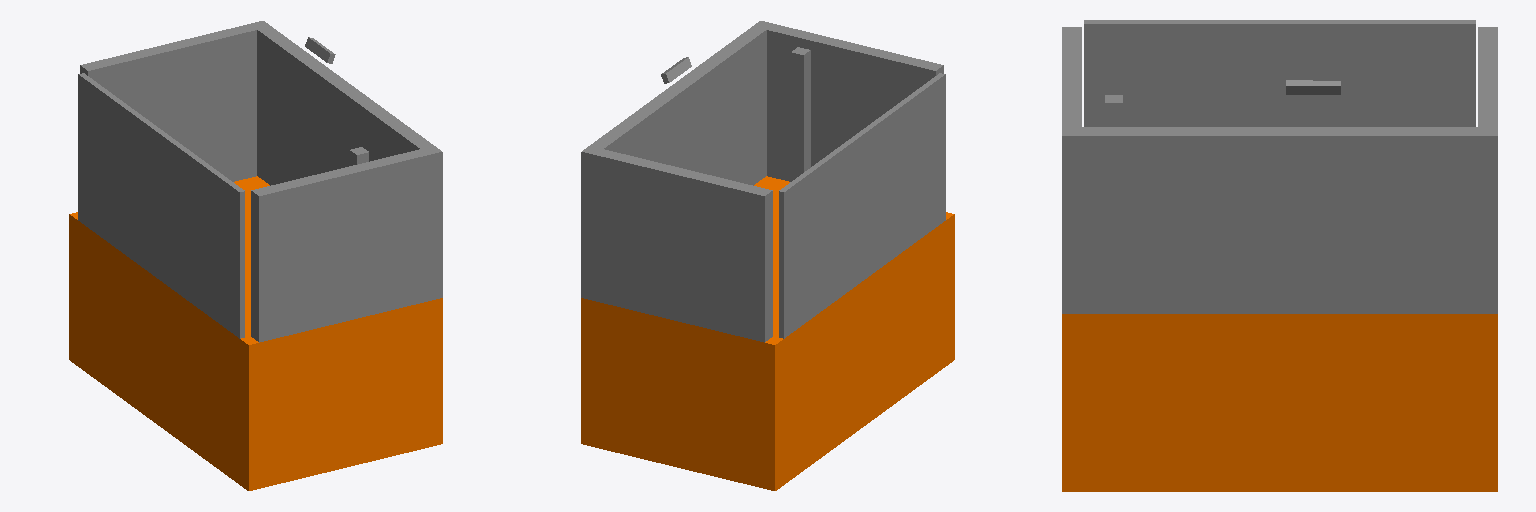
robot.urdf — sia20d_workspace:
<?xml version="1.0" ?>
<!-- =================================================================================== -->
<!-- |    This document was autogenerated by xacro from sia20d_workspace.xacro         | -->
<!-- |    EDITING THIS FILE BY HAND IS NOT RECOMMENDED                                 | -->
<!-- =================================================================================== -->
<robot name="sia20d_workspace" xmlns:xacro="http://ros.org/wiki/xacro">
  <material name="yellow_transparent">
    <color rgba="0 1 1 0.4"/>
  </material>
  <material name="orange_transparent">
    <color rgba="1 0.5 0 0.4"/>
  </material>
  <material name="gray_transparent">
    <color rgba="0.6 0.6 0.6 0.4"/>
  </material>
  <material name="blue_transparent">
    <color rgba="0 0.8 1 0.4"/>
  </material>
  <link name="world_frame"/>
  <!-- property list -->
  <!-- instantiating workcell definitions -->
  <link name="table_base1">
    <visual>
      <origin rpy="0 0 0" xyz="0 0 -0.5"/>
      <geometry>
        <box size="1.3875 2.22 1"/>
      </geometry>
      <material name="orange_transparent"/>
    </visual>
    <collision>
      <origin rpy="0 0 0" xyz="0 0 -0.5"/>
      <geometry>
        <box size="1.3875 2.22 1"/>
      </geometry>
      <material name="blue_transparent"/>
    </collision>
  </link>
  <joint name="workcell_to_table_base1" type="fixed">
    <parent link="world_frame"/>
    <child link="table_base1"/>
    <origin rpy="0 0 0" xyz="0.69375 0 0"/>
  </joint>
  <link name="front_wall1">
    <visual>
      <geometry>
        <box size="0.1 2.22 1"/>
      </geometry>
      <material name="gray_transparent"/>
    </visual>
    <collision>
      <geometry>
        <box size="0.1 2.22 1"/>
      </geometry>
      <material name="blue_transparent"/>
    </collision>
  </link>
  <joint name="world_frame_to_front_wall1" type="fixed">
    <parent link="world_frame"/>
    <child link="front_wall1"/>
    <origin rpy="0 0 0" xyz="1.3375 0 0.5"/>
  </joint>
  <link name="back_wall1">
    <visual>
      <geometry>
        <box size="0.04 2.0 1"/>
      </geometry>
      <material name="gray_transparent"/>
    </visual>
    <collision>
      <geometry>
        <box size="0.04 2.0 1"/>
      </geometry>
      <material name="blue_transparent"/>
    </collision>
  </link>
  <joint name="world_frame_to_back_wall1" type="fixed">
    <parent link="world_frame"/>
    <child link="back_wall1"/>
    <origin rpy="0 0 0" xyz="0.02 0 0.5"/>
  </joint>
  <link name="left_wall1">
    <visual>
      <geometry>
        <box size="1.221 0.1 1"/>
      </geometry>
      <material name="gray_transparent"/>
    </visual>
    <collision>
      <geometry>
        <box size="1.221 0.1 1"/>
      </geometry>
      <material name="blue_transparent"/>
    </collision>
  </link>
  <joint name="world_frame_to_left_wall1" type="fixed">
    <parent link="world_frame"/>
    <child link="left_wall1"/>
    <origin rpy="0 0 0" xyz="0.687 1.06 0.5"/>
  </joint>
  <link name="right_wall1">
    <visual>
      <geometry>
        <box size="1.221 0.1 1"/>
      </geometry>
      <material name="gray_transparent"/>
    </visual>
    <collision>
      <geometry>
        <box size="1.221 0.1 1"/>
      </geometry>
      <material name="blue_transparent"/>
    </collision>
  </link>
  <joint name="world_frame_to_right_wall1" type="fixed">
    <parent link="world_frame"/>
    <child link="right_wall1"/>
    <origin rpy="0 0 0" xyz="0.687 -1.06 0.5"/>
  </joint>
  <link name="pole1">
    <visual>
      <geometry>
        <box size="0.09 0.09 1"/>
      </geometry>
      <material name="gray_transparent"/>
    </visual>
    <collision>
      <geometry>
        <box size="0.09 0.09 1"/>
      </geometry>
      <material name="blue_transparent"/>
    </collision>
  </link>
  <joint name="world_frame_to_pole1" type="fixed">
    <parent link="world_frame"/>
    <child link="pole1"/>
    <origin rpy="0 0 0" xyz="0.9465 -0.845 0.5"/>
  </joint>
  <!-- end of workcell definitions -->
  <link name="roof1">
    <collision>
      <geometry>
        <box size="1.010 2.220 0.04"/>
      </geometry>
    </collision>
  </link>
  <!-- instantiating sensor definitions -->
  <material name="color_b">
    <color rgba="0 0.8 1 0.4"/>
  </material>
  <material name="color_a">
    <color rgba="0.8 0.2 1 0.2"/>
  </material>
  <material name="silver">
    <color rgba="0.6 0.6 0.6 1"/>
  </material>
  <link name="kinect_link">
    <collision>
      <material name="color_a"/>
      <geometry>
        <box size="0.36 0.28 0.22"/>
      </geometry>
    </collision>
  </link>
  <link name="kinect_keepout">
    <!--collision>
<material name="${prefix}color_b"/>
<geometry>
<box size="0.2 0.32 ${z_val + 0.08}"/>
</geometry>
</collision-->
  </link>
  <link name="kinect_frame">
    <visual>
      <origin rpy="0 0 0" xyz="0 0 0"/>
      <geometry>
        <box size="0.064 0.28 0.04"/>
      </geometry>
      <material name="silver"/>
    </visual>
    <collision>
      <origin rpy="0 0 0" xyz="0 0 0"/>
      <geometry>
        <box size="0.064 0.28 0.04"/>
      </geometry>
    </collision>
  </link>
  <link name="kinect_ir_link">
    <visual>
      <origin rpy="0 0 0" xyz="0 0 0"/>
      <geometry>
        <sphere radius="0.0005"/>
      </geometry>
    </visual>
  </link>
  <link name="kinect_rgb_link">
    <visual>
      <origin rpy="0 0 0" xyz="0 0 0"/>
      <geometry>
        <sphere radius="0.0005"/>
      </geometry>
    </visual>
  </link>
  <link name="kinect_ir_optical_frame"/>
  <link name="kinect_rgb_optical_frame"/>
  <joint name="kinect_frame_joint" type="fixed">
    <parent link="kinect_link"/>
    <child link="kinect_frame"/>
    <origin rpy="0 0 0" xyz="0 0 0"/>
  </joint>
  <joint name="kinect_ir_joint" type="fixed">
    <parent link="kinect_frame"/>
    <child link="kinect_ir_link"/>
    <origin rpy="0 0 0" xyz="0 0 0"/>
  </joint>
  <joint name="kinect_ir_optical_frame_joint" type="fixed">
    <parent link="kinect_ir_link"/>
    <child link="kinect_ir_optical_frame"/>
    <origin rpy="-1.57 0 -1.57" xyz="0 0 0"/>
  </joint>
  <joint name="kinect_rgb_joint" type="fixed">
    <parent link="kinect_ir_link"/>
    <child link="kinect_rgb_link"/>
    <origin rpy="0 0 0" xyz="0 -0.03 0"/>
  </joint>
  <joint name="kinect_rgb_optical_frame_joint" type="fixed">
    <parent link="kinect_rgb_link"/>
    <child link="kinect_rgb_optical_frame"/>
    <origin rpy="-1.57 0 -1.57" xyz="0 0 0"/>
  </joint>
  <joint name="base_link_to_kinect_link" type="fixed">
    <parent link="base_link"/>
    <child link="kinect_link"/>
    <origin rpy="0.005 1.968 0.0" xyz="1.01 0.169 1.206"/>
  </joint>
  <joint name="base_link_to_kinect_keepout" type="fixed">
    <parent link="base_link"/>
    <child link="kinect_keepout"/>
    <origin rpy="0 0 0.0" xyz="1.01 0.169 0.643"/>
  </joint>
  <!-- end of sensor definitions -->
  <!-- instantiating arm  -->
  <link name="base_link">
    <visual>
      <geometry>
        <mesh filename="package://motoman_sia20d_support/meshes/sia20d/visual/MOTOMAN_BASE.stl"/>
      </geometry>
      <material name="blue">
        <color rgba="0 0 1 1"/>
      </material>
    </visual>
    <collision>
      <geometry>
        <mesh filename="package://motoman_sia20d_support/meshes/sia20d/collision/MOTOMAN_BASE.stl"/>
      </geometry>
      <material name="yellow">
        <color rgba="0 1 1 1"/>
      </material>
    </collision>
  </link>
  <link name="link_s">
    <visual>
      <origin rpy="0 0 3.1416" xyz="0 0 0"/>
      <geometry>
        <mesh filename="package://motoman_sia20d_support/meshes/sia20d/visual/MOTOMAN_AXIS_S.stl"/>
      </geometry>
      <material name="silver">
        <color rgba="0.8 0.8 0.8 1"/>
      </material>
    </visual>
    <collision>
      <origin rpy="0 0 3.1416" xyz="0 0 0"/>
      <geometry>
        <mesh filename="package://motoman_sia20d_support/meshes/sia20d/collision/MOTOMAN_AXIS_S.stl"/>
      </geometry>
      <material name="yellow"/>
    </collision>
  </link>
  <link name="link_l">
    <visual>
      <origin rpy="1.57 3.1416 3.1416" xyz="0 0 0"/>
      <geometry>
        <mesh filename="package://motoman_sia20d_support/meshes/sia20d/visual/MOTOMAN_AXIS_L.stl"/>
      </geometry>
      <material name="blue"/>
    </visual>
    <collision>
      <origin rpy="1.57 3.1416 3.1416" xyz="0 0 0"/>
      <geometry>
        <mesh filename="package://motoman_sia20d_support/meshes/sia20d/collision/MOTOMAN_AXIS_L.stl"/>
      </geometry>
      <material name="yellow"/>
    </collision>
  </link>
  <link name="link_e">
    <visual>
      <origin rpy="0 0 0" xyz="0 0 0"/>
      <geometry>
        <mesh filename="package://motoman_sia20d_support/meshes/sia20d/visual/MOTOMAN_AXIS_E.stl"/>
      </geometry>
      <material name="silver"/>
    </visual>
    <collision>
      <origin rpy="0 0 0" xyz="0 0 0"/>
      <geometry>
        <mesh filename="package://motoman_sia20d_support/meshes/sia20d/collision/MOTOMAN_AXIS_E.stl"/>
      </geometry>
      <material name="yellow"/>
    </collision>
  </link>
  <link name="link_u">
    <visual>
      <origin rpy="1.57 -3.1415 3.1416" xyz="0 0 0"/>
      <geometry>
        <mesh filename="package://motoman_sia20d_support/meshes/sia20d/visual/MOTOMAN_AXIS_U.stl"/>
      </geometry>
      <material name="blue"/>
    </visual>
    <collision>
      <origin rpy="1.57 -3.1415 3.1416" xyz="0 0 0"/>
      <geometry>
        <mesh filename="package://motoman_sia20d_support/meshes/sia20d/collision/MOTOMAN_AXIS_U.stl"/>
      </geometry>
      <material name="yellow"/>
    </collision>
  </link>
  <link name="link_r">
    <visual>
      <origin rpy="0 0 0" xyz="0 0 0"/>
      <geometry>
        <mesh filename="package://motoman_sia20d_support/meshes/sia20d/visual/MOTOMAN_AXIS_R.stl"/>
      </geometry>
      <material name="silver"/>
    </visual>
    <collision>
      <origin rpy="0 0 0" xyz="0 0 0"/>
      <geometry>
        <mesh filename="package://motoman_sia20d_support/meshes/sia20d/collision/MOTOMAN_AXIS_R.stl"/>
      </geometry>
      <material name="yellow"/>
    </collision>
  </link>
  <link name="link_b">
    <visual>
      <origin rpy="-1.57 0 0" xyz="0 0 0"/>
      <geometry>
        <mesh filename="package://motoman_sia20d_support/meshes/sia20d/visual/MOTOMAN_AXIS_B.stl"/>
      </geometry>
      <material name="blue"/>
    </visual>
    <collision>
      <origin rpy="-1.57 0 0" xyz="0 0 0"/>
      <geometry>
        <mesh filename="package://motoman_sia20d_support/meshes/sia20d/collision/MOTOMAN_AXIS_B.stl"/>
      </geometry>
      <material name="yellow"/>
    </collision>
  </link>
  <link name="link_t">
    <visual>
      <geometry>
        <mesh filename="package://motoman_sia20d_support/meshes/sia20d/visual/MOTOMAN_AXIS_T.stl"/>
      </geometry>
      <material name="silver"/>
    </visual>
    <collision>
      <geometry>
        <mesh filename="package://motoman_sia20d_support/meshes/sia20d/collision/MOTOMAN_AXIS_T.stl"/>
      </geometry>
      <material name="yellow"/>
    </collision>
  </link>
  <link name="tool0"/>
  <joint name="joint_s" type="revolute">
    <parent link="base_link"/>
    <child link="link_s"/>
    <origin rpy="0 0 0" xyz="0 0 0.41"/>
    <axis xyz="0 0 1"/>
    <limit effort="100" lower="-3.1416" upper="3.1416" velocity="2.26"/>
  </joint>
  <joint name="joint_l" type="revolute">
    <parent link="link_s"/>
    <child link="link_l"/>
    <origin rpy="0 0 0" xyz="0 0 0"/>
    <axis xyz="0 1 0"/>
    <limit effort="100" lower="-1.91" upper="1.91" velocity="2.26"/>
  </joint>
  <joint name="joint_e" type="revolute">
    <parent link="link_l"/>
    <child link="link_e"/>
    <origin rpy="0 0 0" xyz="0 0 0.49"/>
    <axis xyz="0 0 1"/>
    <limit effort="100" lower="-2.96" upper="2.96" velocity="2.96"/>
  </joint>
  <joint name="joint_u" type="revolute">
    <parent link="link_e"/>
    <child link="link_u"/>
    <origin rpy="0 0 0" xyz="0 0 0"/>
    <axis xyz="0 -1 0"/>
    <limit effort="100" lower="-2.26" upper="2.26" velocity="2.96"/>
  </joint>
  <joint name="joint_r" type="revolute">
    <parent link="link_u"/>
    <child link="link_r"/>
    <origin rpy="0 0 0" xyz="0 0 0.420"/>
    <axis xyz="0 0 -1"/>
    <limit effort="100" lower="-3.1416" upper="3.1416" velocity="3.48"/>
  </joint>
  <joint name="joint_b" type="revolute">
    <parent link="link_r"/>
    <child link="link_b"/>
    <origin rpy="0 0 0" xyz="0 0 0"/>
    <axis xyz="0 -1 0"/>
    <limit effort="100" lower="-1.91" upper="1.91" velocity="3.48"/>
  </joint>
  <joint name="joint_t" type="revolute">
    <parent link="link_b"/>
    <child link="link_t"/>
    <origin rpy="0 0 0" xyz="0 0 0.18"/>
    <axis xyz="0 0 -1"/>
    <limit effort="100" lower="-3.1416" upper="3.1416" velocity="6.97"/>
  </joint>
  <joint name="link_t-tool0" type="fixed">
    <origin rpy="0 0 -3.1416" xyz="0 0 0.0"/>
    <parent link="link_t"/>
    <child link="tool0"/>
  </joint>
  <!-- start of arm-workcell joint definitions -->
  <joint name="world_to_base" type="fixed">
    <parent link="world_frame"/>
    <child link="base_link"/>
    <origin rpy="0 0 0" xyz="0.241 0 0"/>
  </joint>
  <joint name="world_to_roof1" type="fixed">
    <parent link="world_frame"/>
    <child link="roof1"/>
    <origin rpy="0 0 0" xyz="0.987 0 1.20"/>
  </joint>
  <!-- end of arm-workcell joint definitions -->
  <!-- start of wrist to tcp coupling -->
  <!--<link name="${arm_prefix}tcp"/>
	<joint name="${arm_prefix}wrist_to_tcp" type="fixed">
		<parent link="${arm_prefix}link_t"/>
		<child link="${arm_prefix}tcp"/>
		<origin xyz="0 0 0" rpy="0 0 0"/>
	</joint>-->
  <!-- end of wrist to tcp coupling -->
</robot>

--- Render facts (derived) ---
Views: 3 orthographic renders of the robot side by side, from view 1: azimuth 30°, elevation 25°; view 2: azimuth 150°, elevation 25°; view 3: azimuth 270°, elevation 25°.
Robot: sia20d_workspace — 24 links, 23 joints (7 revolute, 16 fixed); root link world_frame; default pose: every joint at zero.
Links seen in each view (by area): view 1: table_base1, right_wall1, back_wall1, front_wall1, left_wall1; view 2: table_base1, left_wall1, back_wall1, front_wall1, right_wall1, pole1; view 3: front_wall1, table_base1, back_wall1, left_wall1, right_wall1, kinect_frame, pole1.
Boxes of the visible links, x1,y1,x2,y2 form: table_base1: (69,176,442,490); right_wall1: (251,149,429,342); back_wall1: (78,73,244,338); front_wall1: (250,21,442,300); left_wall1: (80,24,258,181); table_base1: (581,176,954,490); left_wall1: (594,149,772,342); back_wall1: (779,73,945,338); front_wall1: (581,21,773,300); right_wall1: (765,24,943,181); pole1: (791,47,810,181); front_wall1: (1062,127,1497,313); table_base1: (1062,314,1497,491); back_wall1: (1084,20,1475,126); left_wall1: (1478,27,1497,126); right_wall1: (1062,27,1081,126); kinect_frame: (1286,80,1340,94); pole1: (1105,95,1122,126).
Bounding box of the posed robot: 1.39 × 2.22 × 2.24 m (x, y, z).
0 mesh visuals loaded from 8 distinct referenced files (none loaded); not drawn: 8 (reference not matched to a file when rendering).
